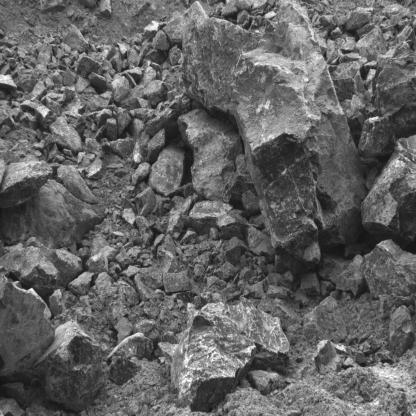stone: (260, 2, 369, 247), (232, 49, 321, 275), (181, 5, 262, 118), (171, 306, 257, 409), (34, 320, 108, 413), (361, 134, 416, 252), (205, 295, 292, 365), (180, 109, 239, 199), (0, 245, 82, 295), (370, 49, 416, 134), (362, 239, 416, 308), (0, 157, 53, 211), (149, 145, 189, 198), (302, 297, 348, 343), (56, 165, 99, 203), (186, 200, 233, 234), (105, 333, 153, 365), (359, 117, 396, 158), (389, 304, 416, 358), (334, 255, 366, 298), (228, 153, 253, 204), (355, 26, 389, 63), (50, 115, 82, 152), (216, 206, 246, 241), (246, 226, 275, 262), (315, 341, 346, 374), (76, 52, 115, 78), (109, 355, 138, 387), (63, 24, 90, 53), (249, 370, 281, 393), (144, 79, 171, 106), (346, 6, 374, 32), (163, 16, 183, 50), (102, 138, 136, 158), (34, 41, 52, 76), (147, 129, 165, 163), (135, 188, 156, 217), (34, 103, 55, 131), (68, 272, 94, 294), (109, 74, 129, 102), (163, 272, 189, 293), (136, 216, 154, 245), (166, 210, 184, 239), (300, 272, 321, 296), (132, 162, 152, 187), (20, 70, 40, 95), (214, 261, 239, 281), (86, 253, 109, 274), (86, 157, 106, 181), (225, 237, 241, 264), (118, 107, 132, 137), (193, 251, 211, 270), (152, 30, 169, 50), (168, 45, 183, 67), (30, 80, 47, 99), (0, 74, 17, 91), (274, 255, 288, 273), (122, 208, 135, 226), (106, 118, 117, 139)
